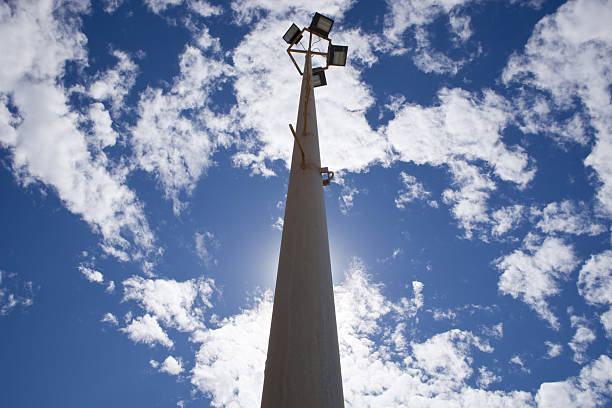light_pole: (260, 62, 345, 408)
